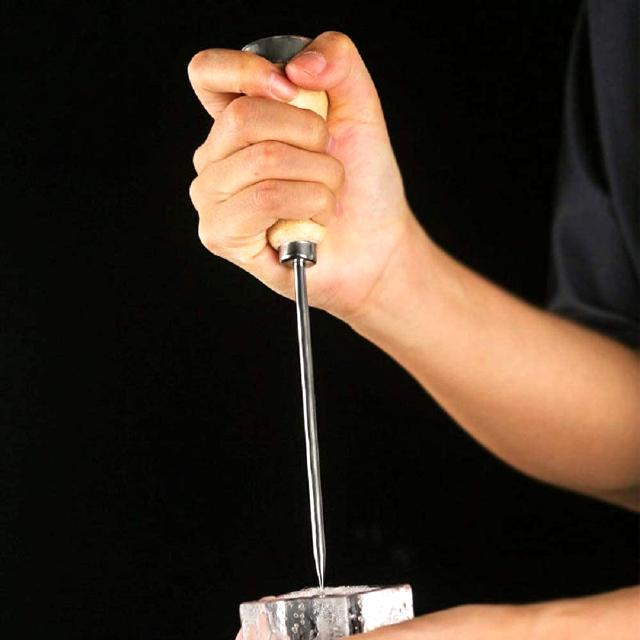ice pick: (242, 36, 330, 592)
